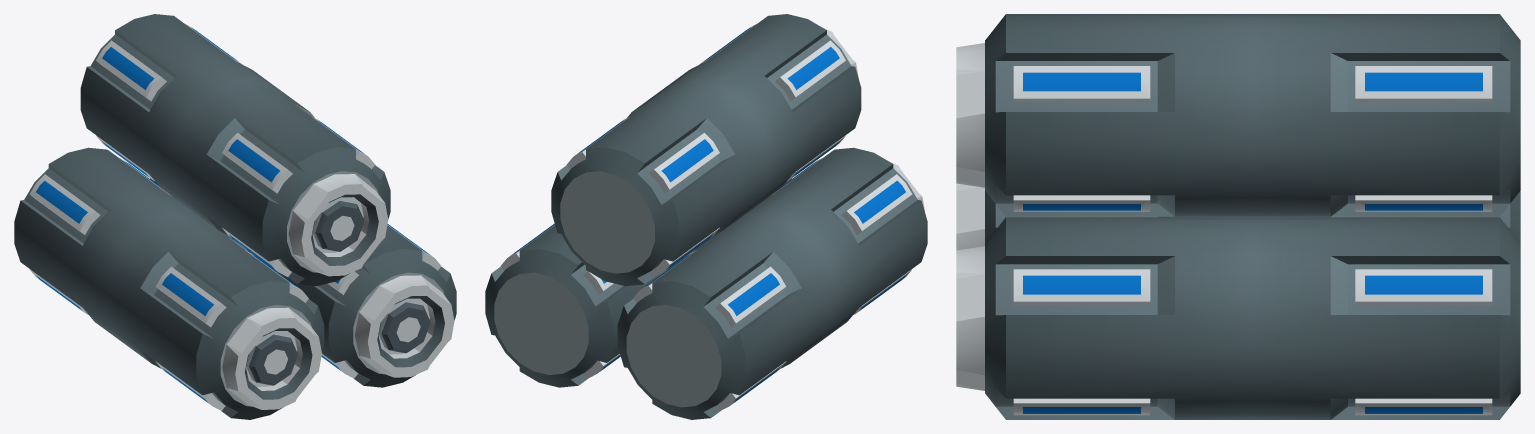
Rendered from Baloon_012.fbx.
The picture shows the model from 3 angles, left to right: view 1: azimuth 30°, elevation 25°; view 2: azimuth 150°, elevation 25°; view 3: azimuth 270°, elevation 25°; orthographic projection. The views are drawn at different scales.
Parts seen in each view (by area): view 1: Baloon_012; view 2: Baloon_012; view 3: Baloon_012.
Boxes of the visible parts, x1,y1,x2,y2 form: Baloon_012: (14,14,456,419); Baloon_012: (485,14,927,419); Baloon_012: (956,14,1520,419).
Size of the model in its own units: 73.59 by 102 by 67.89.
